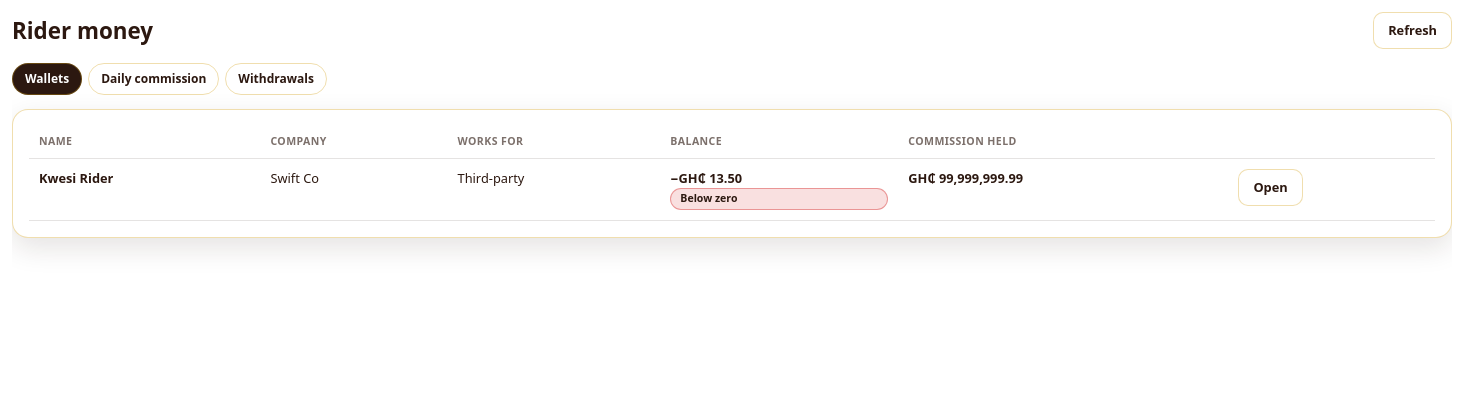
Test: Wallet 5F: no-invention sweep › RiderMoneyPanel: Wallets, Daily commission and Withdrawals
Expected: the text "Kwesi Rider" is shown, [29,158,260,220]
Click the button "Daily commission" at [154, 79], box [88,63,219,95]
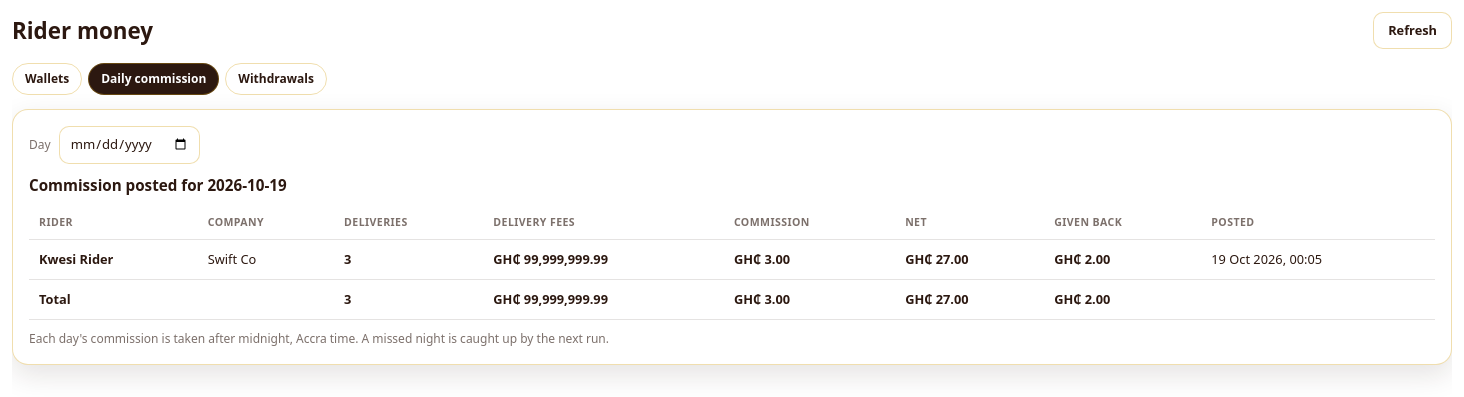
Now the heading "Commission posted for 2026-10-19" is shown, box [29,175,287,195]
Click the button "Withdrawals" at [276, 79], box [225,63,327,95]
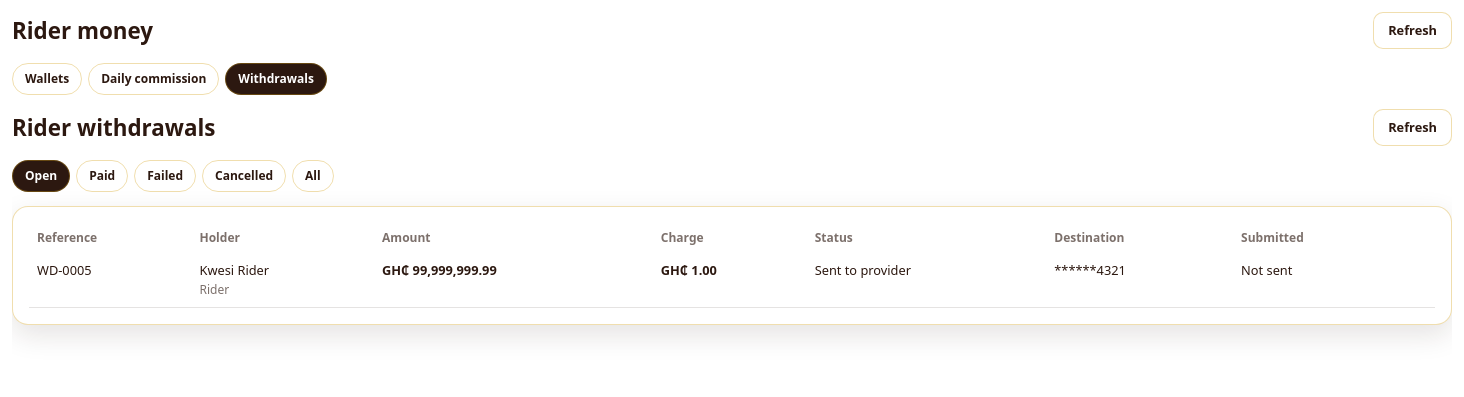
Now the text "WD-0005" is shown, box [29,253,192,307]
